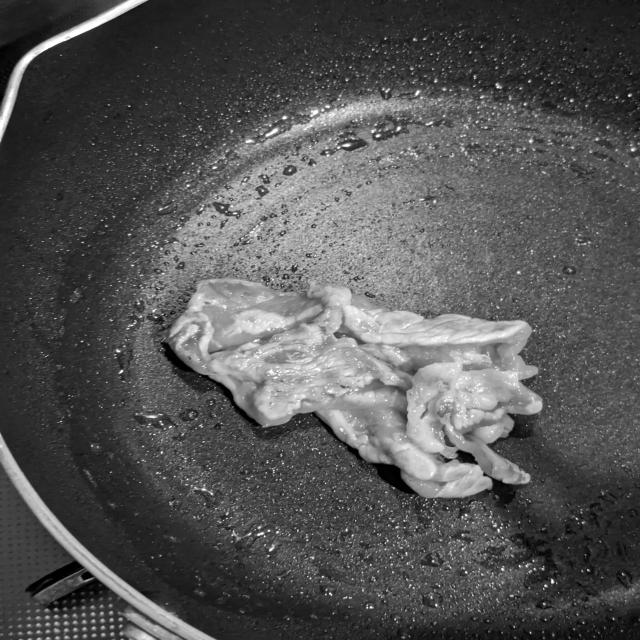NG undercooked pork,: (147, 274, 551, 504)
